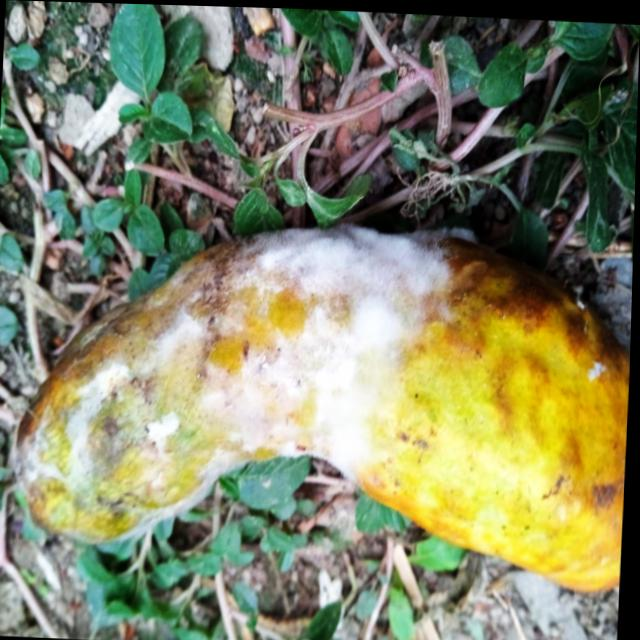Pythium-Fruit-Rot: (13, 206, 458, 562)
